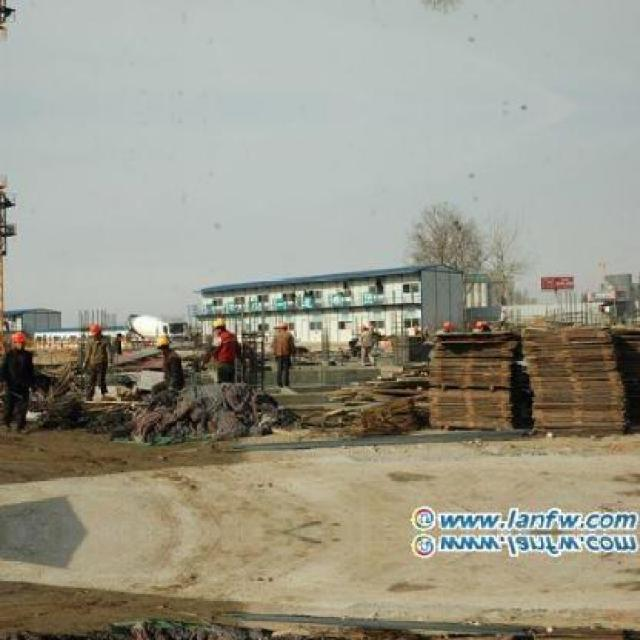helmet: (212, 313, 228, 333), (11, 328, 26, 349), (154, 334, 169, 352), (88, 319, 100, 339)
